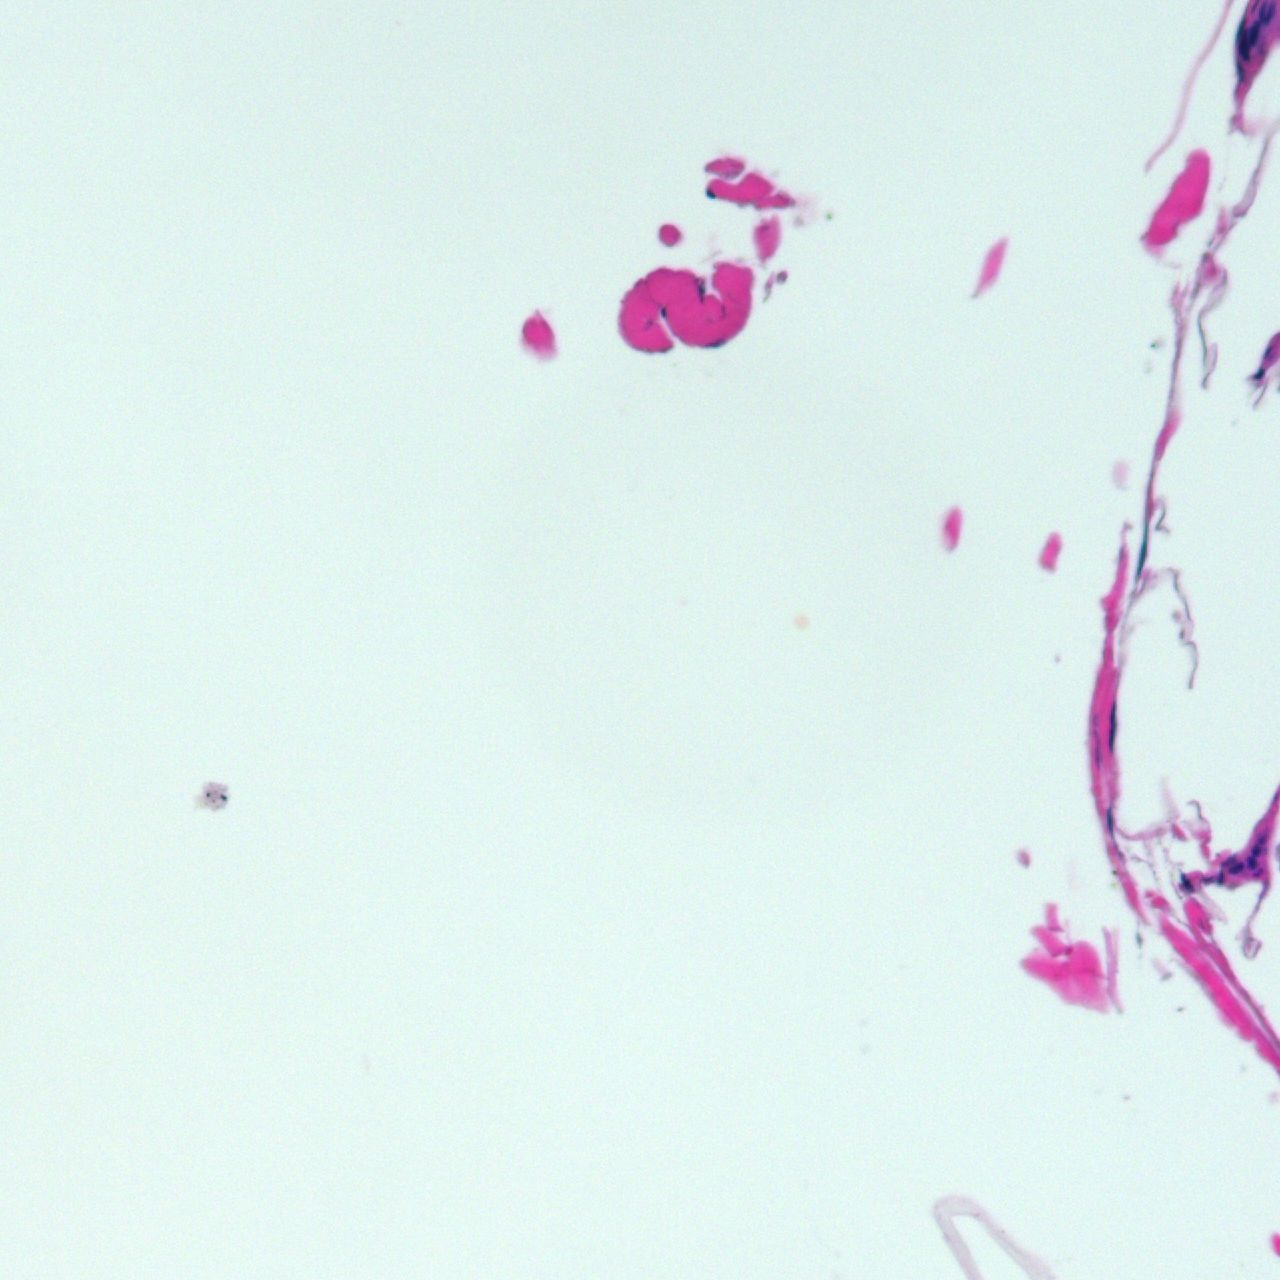nucleus-HE: (1133, 516, 1151, 588), (1235, 20, 1257, 61), (1107, 697, 1118, 753), (1177, 871, 1194, 893), (1092, 726, 1102, 767), (1219, 853, 1238, 867), (1105, 806, 1114, 837), (1227, 862, 1245, 876), (1261, 343, 1273, 360), (1235, 61, 1244, 83), (1252, 367, 1265, 381), (1257, 829, 1267, 845), (1247, 856, 1257, 870), (1250, 846, 1260, 856), (1218, 869, 1224, 884)
